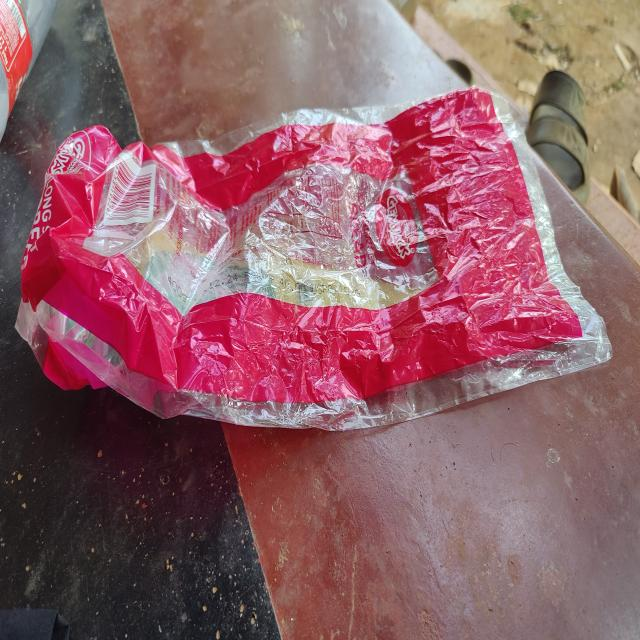plastic: (17, 85, 613, 432)
